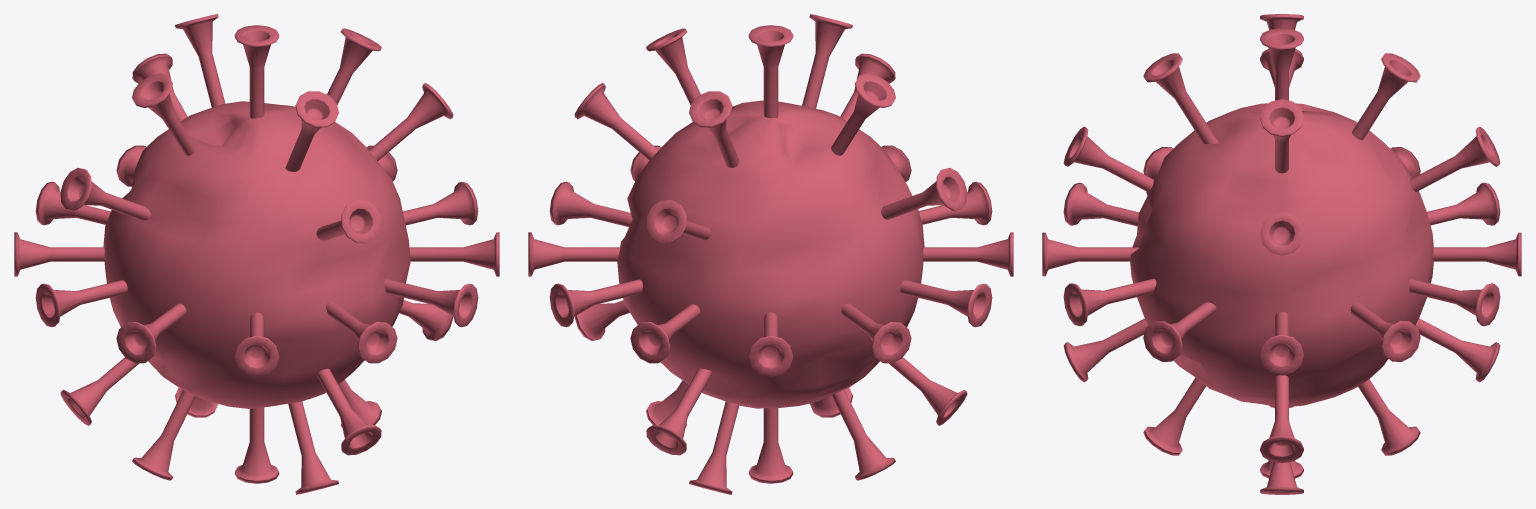
The model's file is virus.fbx.
The picture shows the model from 3 angles, left to right: view 1: azimuth 30°, elevation 25°; view 2: azimuth 150°, elevation 25°; view 3: azimuth 270°, elevation 25°; orthographic projection.
Visible parts, largest first — view 1: pCylinder23; view 2: pCylinder23; view 3: pCylinder23.
Part boxes in pixels (left/top/right/bottom): pCylinder23: left=14, top=14, right=499, bottom=494; pCylinder23: left=528, top=14, right=1013, bottom=494; pCylinder23: left=1042, top=14, right=1521, bottom=494.
Bounding box in the file's own units: 3.14 × 3.14 × 3.14.
